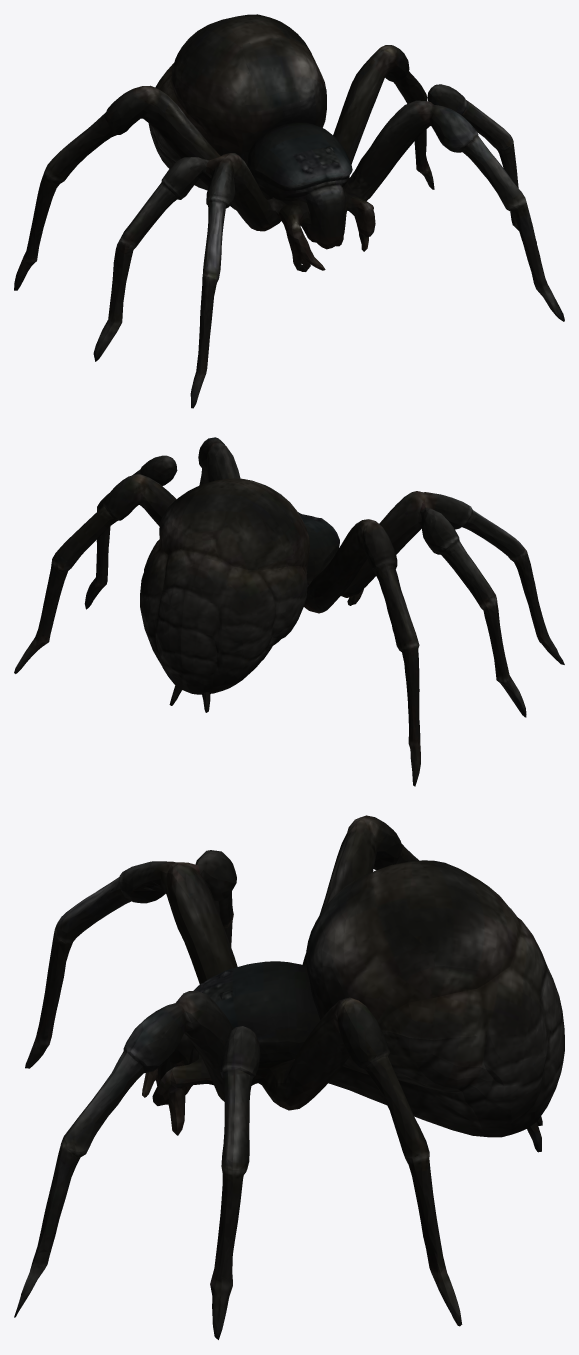
The model's file is araignee-noire.glb.
3 renders of one model, top to bottom at view 1: azimuth 30°, elevation 25°; view 2: azimuth 150°, elevation 25°; view 3: azimuth 270°, elevation 25°, orthographic. The views are drawn at different scales.
Visible parts, largest first — view 1: world; view 2: world; view 3: world.
Part boxes in pixels (x1,y1,x2,y2): world: (14,14,564,408); world: (14,437,564,786); world: (14,815,564,1339).
Bounding box in the file's own units: 0.9986 × 0.5097 × 0.773.
Materials: 1 (1 with a texture image).
